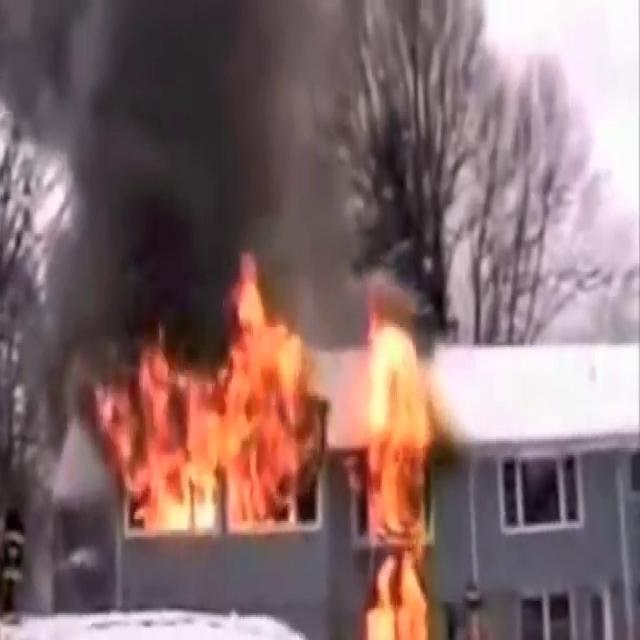Fire: (93, 259, 454, 632)
Smoke: (0, 0, 384, 361)
